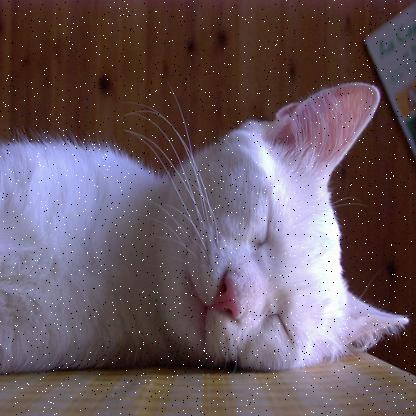cat: (9, 82, 415, 375)
